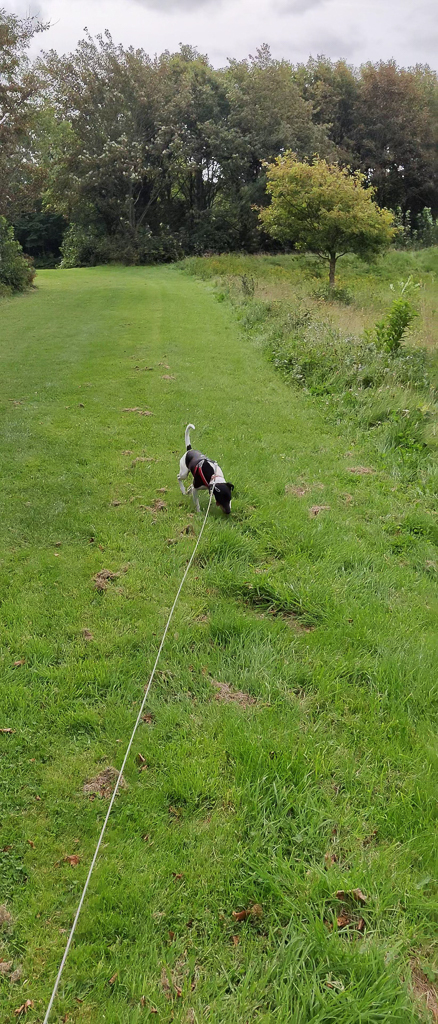Dog: (167, 417, 241, 524)
